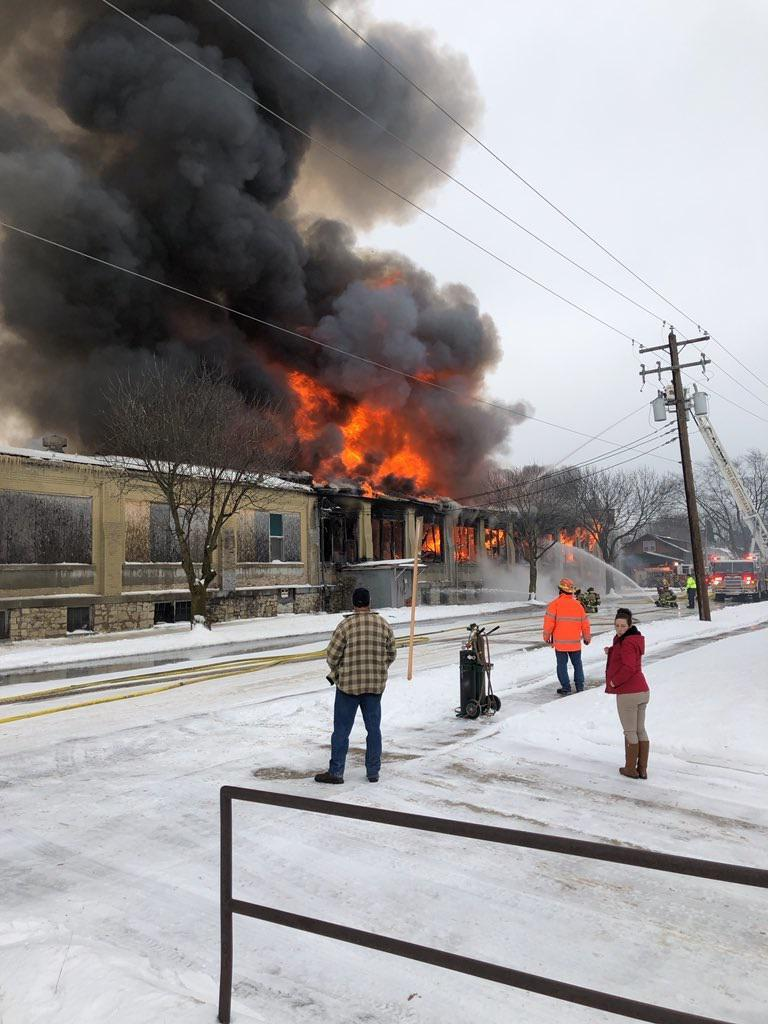Fire: (295, 373, 444, 495), (422, 526, 445, 553), (482, 529, 507, 553), (560, 527, 586, 545)
